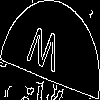W: (25, 24, 61, 82)
